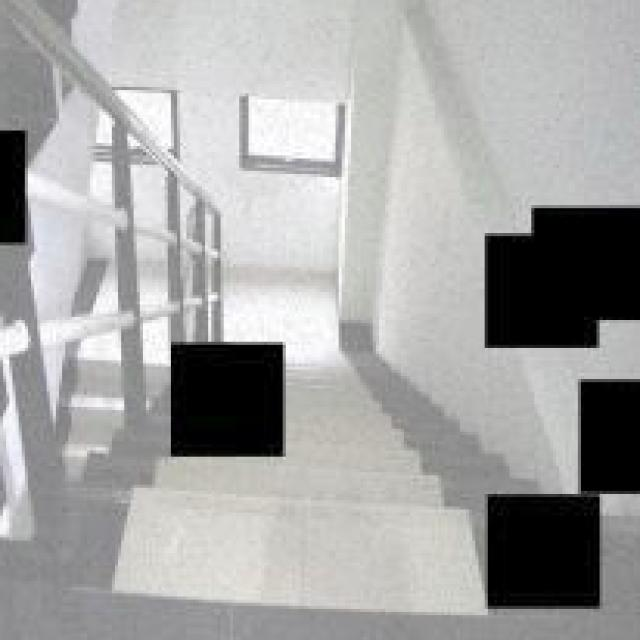downstair: (39, 461, 477, 640)
